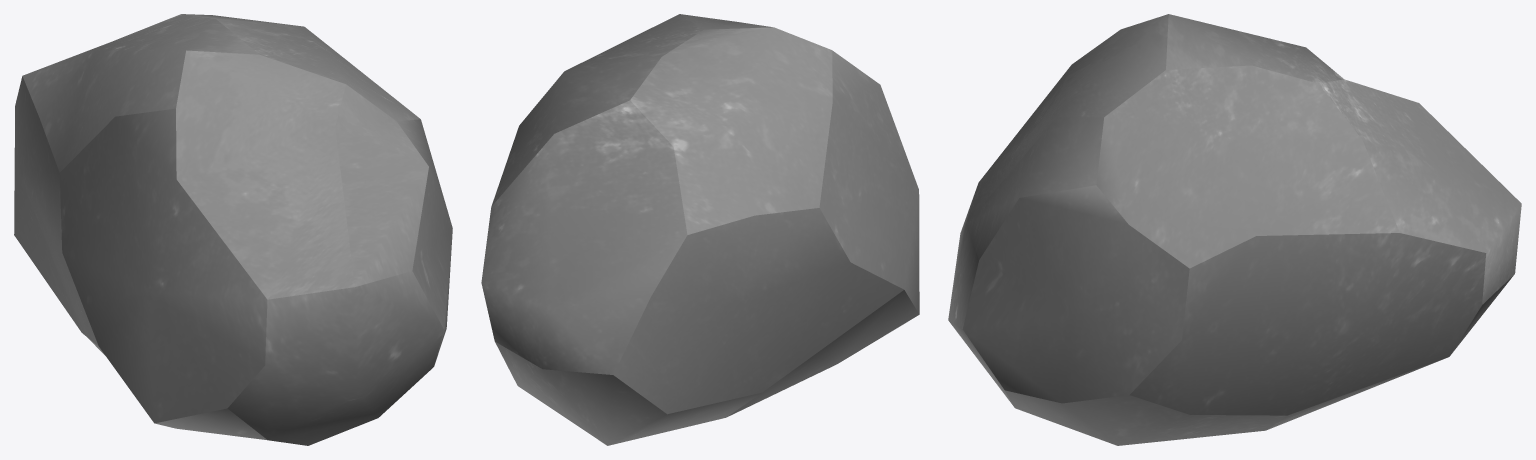
File: boulder.fbx
3 renders of one model, left to right at view 1: azimuth 30°, elevation 25°; view 2: azimuth 150°, elevation 25°; view 3: azimuth 270°, elevation 25°, orthographic.
Visible parts, largest first — view 1: BigStone1; view 2: BigStone1; view 3: BigStone1.
Part boxes in pixels (x1=…): BigStone1: x1=14, y1=14, x2=452, y2=445; BigStone1: x1=481, y1=14, x2=919, y2=445; BigStone1: x1=948, y1=14, x2=1521, y2=445.
Size of the model in its own units: 2.85 by 2.94 by 4.02.
